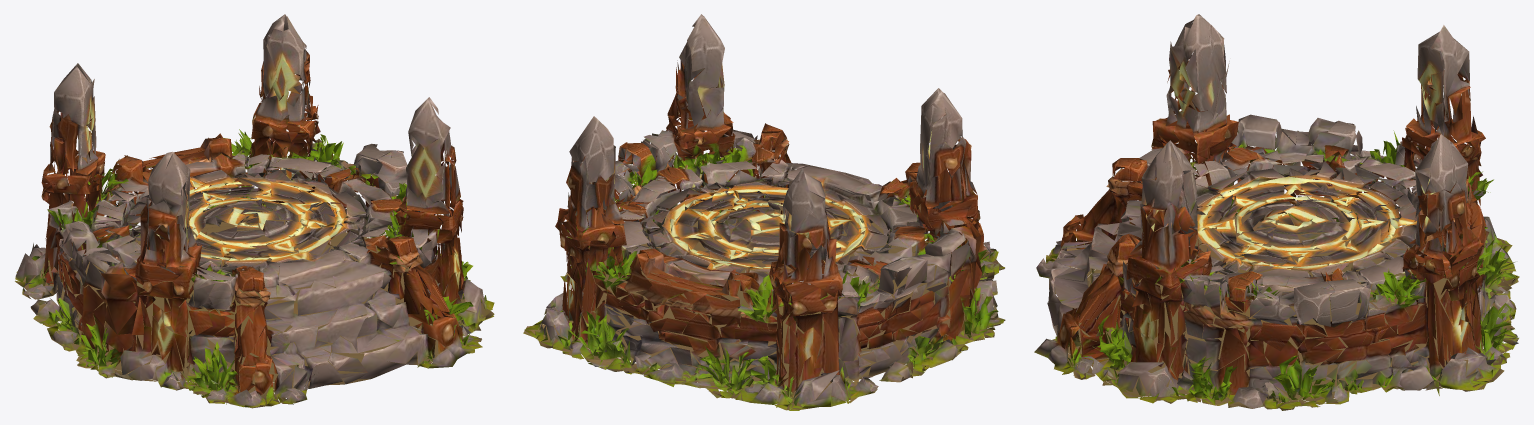
Rendered from Runestone_Altar_town.glb.
The picture shows the model from 3 angles, left to right: view 1: azimuth 30°, elevation 25°; view 2: azimuth 150°, elevation 25°; view 3: azimuth 270°, elevation 25°; orthographic projection. The views are drawn at different scales.
Visible parts, largest first — view 1: Runestone_Altar; view 2: Runestone_Altar; view 3: Runestone_Altar.
Boxes of the visible parts, <box> form: Runestone_Altar: <box>15,14,494,408</box>; Runestone_Altar: <box>523,14,1005,410</box>; Runestone_Altar: <box>1034,14,1519,410</box>.
Size of the model in its own units: 1.89 by 1.02 by 1.87.
1 material, 1 textured.
